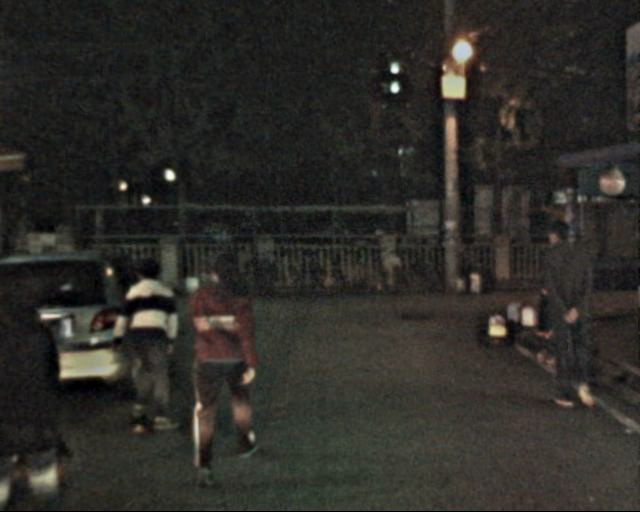person: (170, 243, 263, 483), (1, 256, 66, 512), (529, 209, 604, 424), (110, 247, 181, 443)
